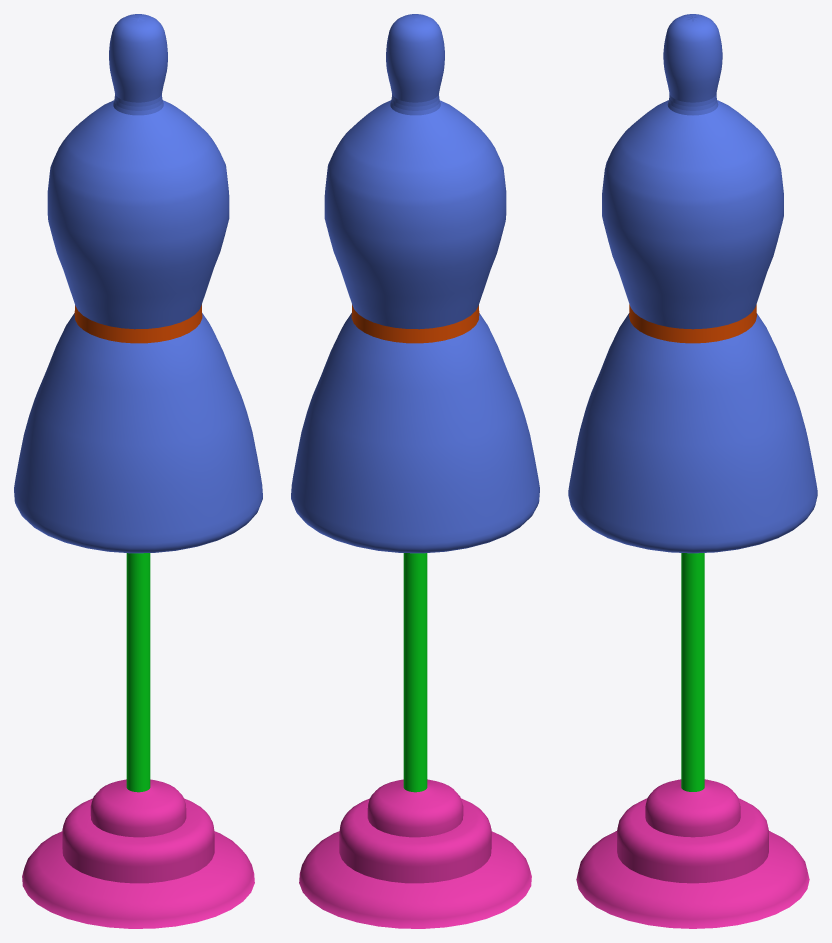
File: Mannequin(v2).fbx
3 views of the same model, side by side, from view 1: azimuth 30°, elevation 25°; view 2: azimuth 150°, elevation 25°; view 3: azimuth 270°, elevation 25° (orthographic).
Parts seen in each view (by area): view 1: Mani; view 2: Mani; view 3: Mani.
Part boxes in pixels (<box>): Mani: <box>14,14,262,928</box>; Mani: <box>291,14,539,928</box>; Mani: <box>568,14,817,928</box>.
Size of the model in its own units: 170 by 646 by 170.
